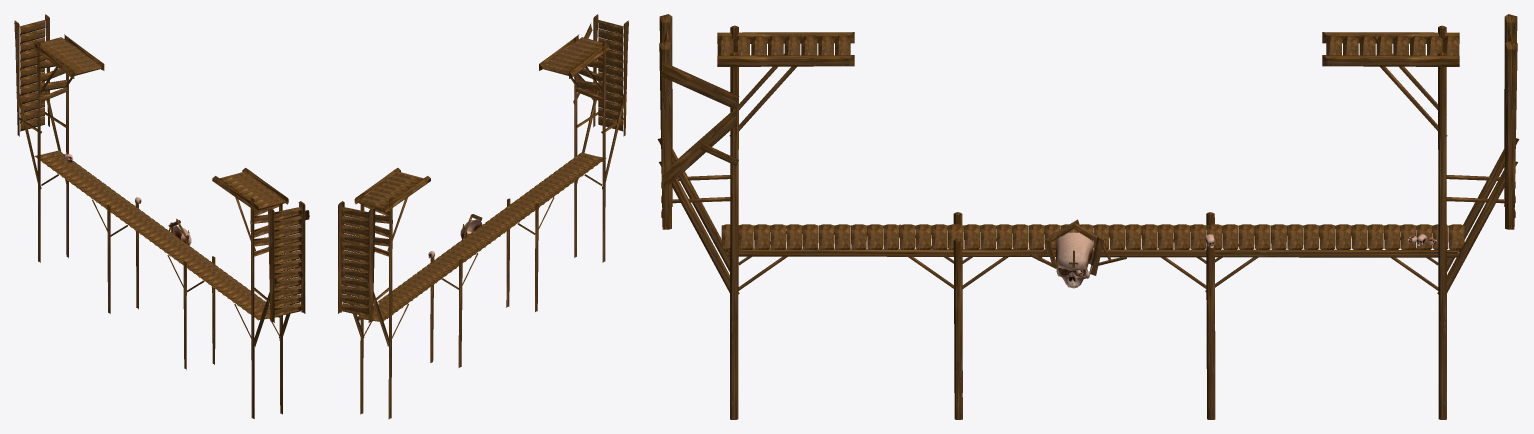
Rendered from Platform.gltf.
The picture shows the model from 3 angles, left to right: view 1: azimuth 30°, elevation 25°; view 2: azimuth 150°, elevation 25°; view 3: azimuth 270°, elevation 25°; orthographic projection. The views are drawn at different scales.
Visible parts, largest first — view 1: Platform; view 2: Platform; view 3: Platform.
Part boxes in pixels (x1,y1,x2,y2): Platform: [14, 14, 309, 418]; Platform: [338, 14, 628, 419]; Platform: [657, 14, 1519, 419].
Bounding box in the file's own units: 3.67 × 17.92 × 37.
2 materials, 2 textured.
